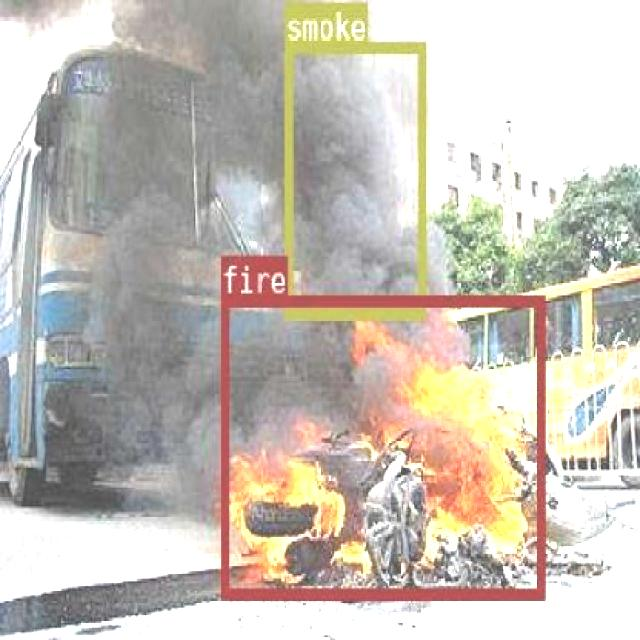fire: (219, 294, 544, 596)
smoke: (283, 41, 425, 316)
